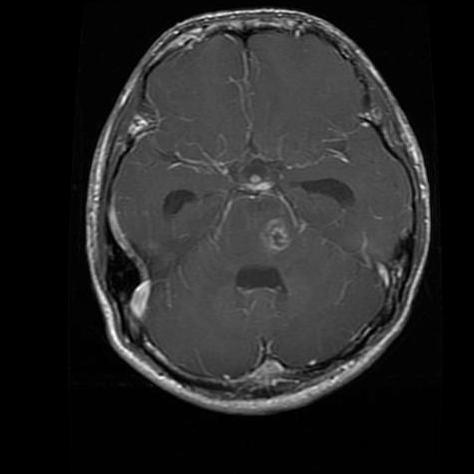Tumour-Glioma: (90, 238, 173, 325)
